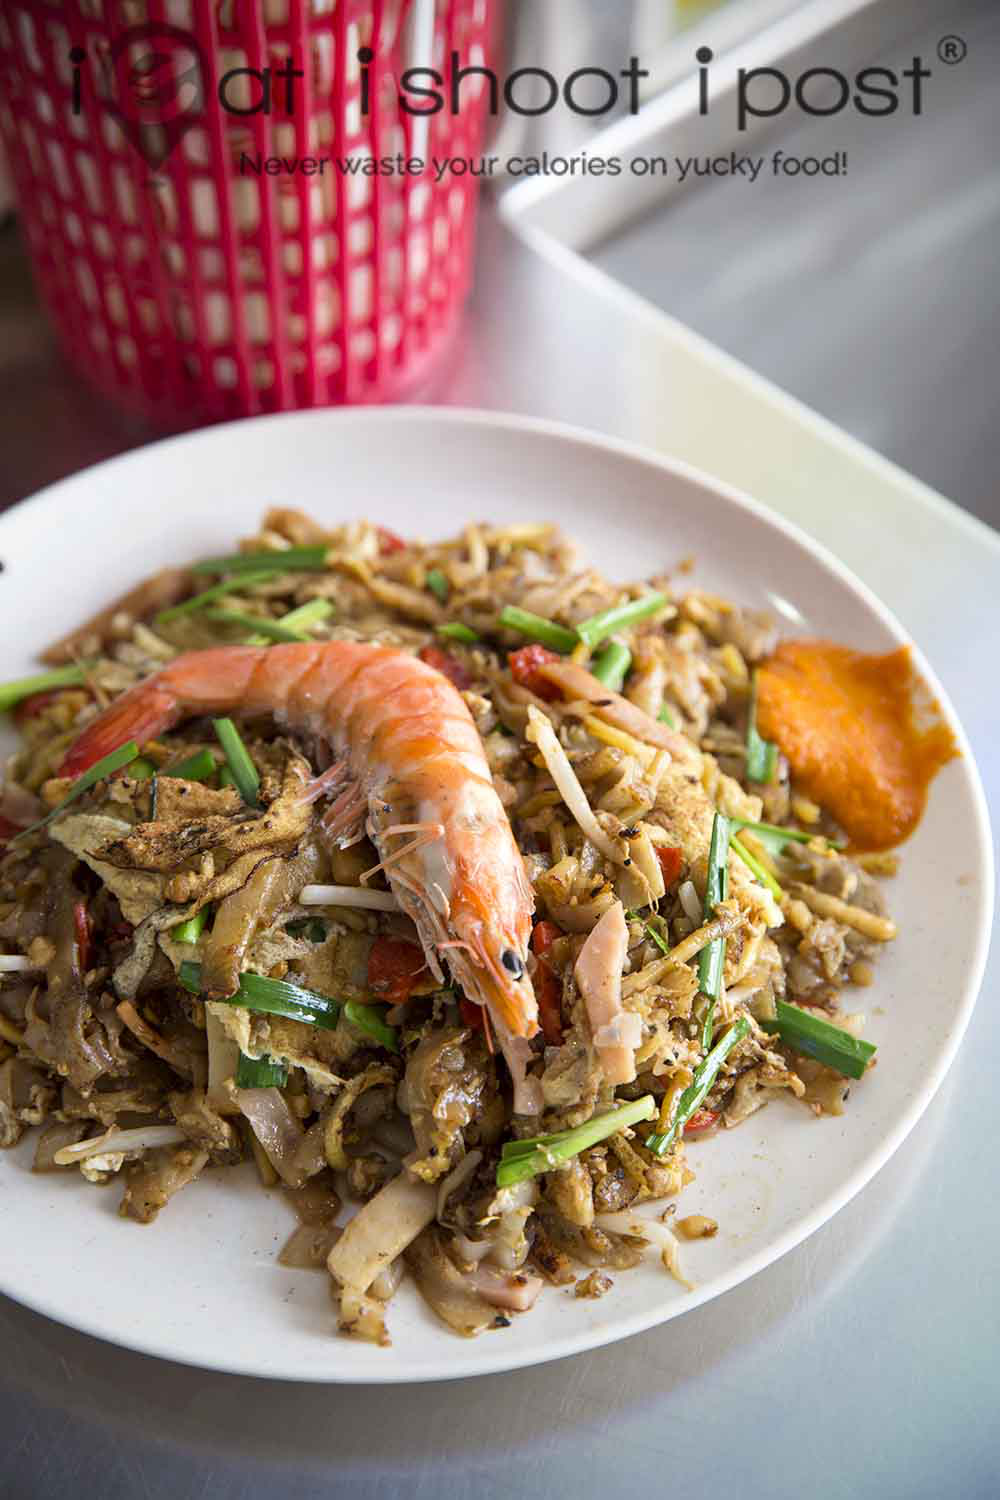Char Kway Teow: (0, 481, 906, 1316)
